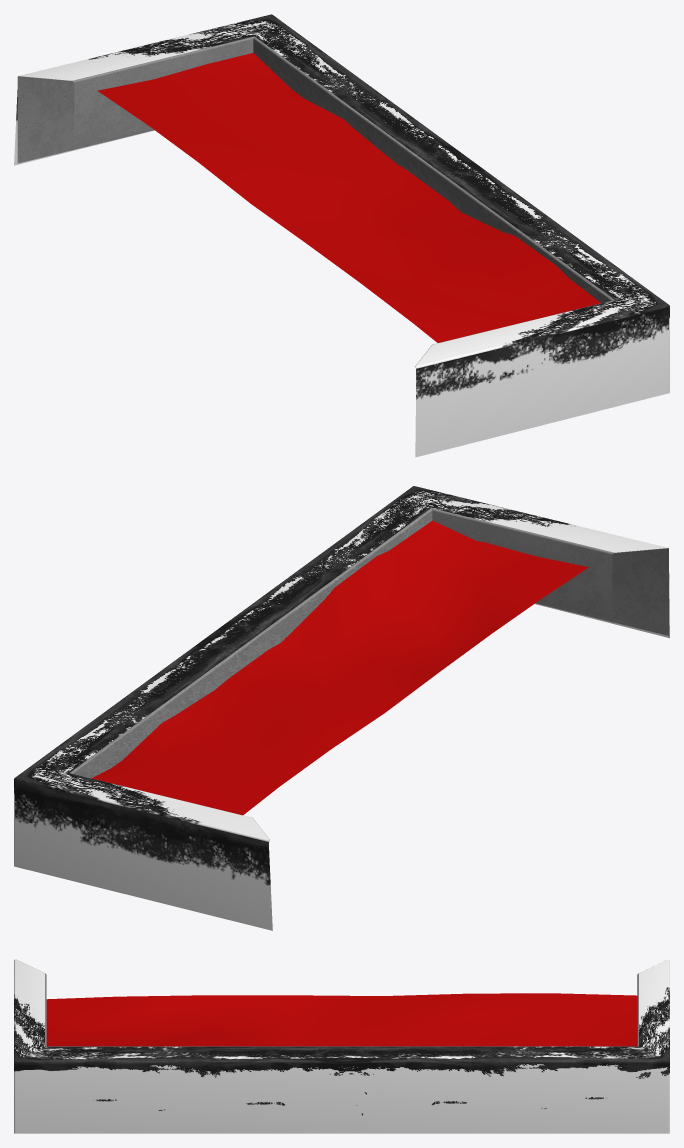
Rendered from boxF.fbx.
3 views of the same model, one above another, from view 1: azimuth 30°, elevation 25°; view 2: azimuth 150°, elevation 25°; view 3: azimuth 270°, elevation 25° (orthographic). The views are drawn at different scales.
Visible parts, largest first — view 1: boxFgrass, boxFdecalc, boxF; view 2: boxFgrass, boxFdecalc, boxF; view 3: boxFdecalc, boxFgrass, boxF.
Part boxes in pixels (x1,y1,x2,y2): boxFgrass: [97, 53, 600, 342]; boxFdecalc: [14, 14, 669, 457]; boxF: [17, 36, 614, 389]; boxFgrass: [92, 520, 588, 815]; boxFdecalc: [14, 486, 669, 930]; boxF: [69, 508, 668, 843]; boxFdecalc: [14, 959, 669, 1133]; boxFgrass: [46, 993, 637, 1046]; boxF: [16, 959, 665, 1046].
Size of the model in its own units: 187 by 62.49 by 500.
